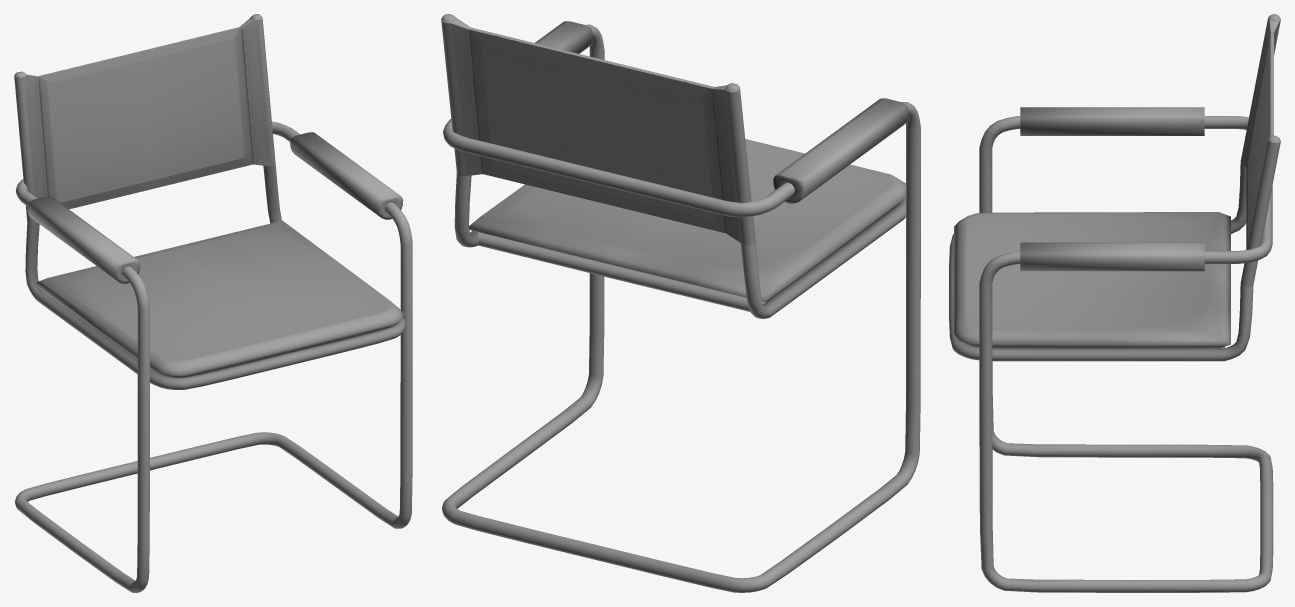
File: chair_4.obj
3 renders of one model, left to right at view 1: azimuth 30°, elevation 25°; view 2: azimuth 150°, elevation 25°; view 3: azimuth 270°, elevation 25°, orthographic. The views are drawn at different scales.
Visible parts, largest first — view 1: chair_4; view 2: chair_4; view 3: chair_4.
Boxes of the visible parts, x1,y1,x2,y2 form: chair_4: (14, 14, 412, 592); chair_4: (441, 14, 920, 592); chair_4: (949, 14, 1280, 592).
Bounding box in the file's own units: 1.07 × 1.51 × 1.01.
